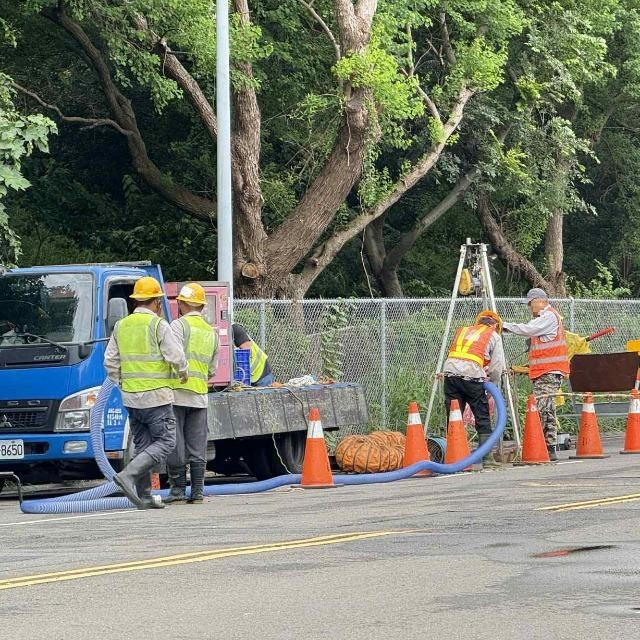Helmet: (172, 279, 209, 314)
NoHelmet: (520, 285, 550, 321)
Vest: (111, 313, 177, 403)
